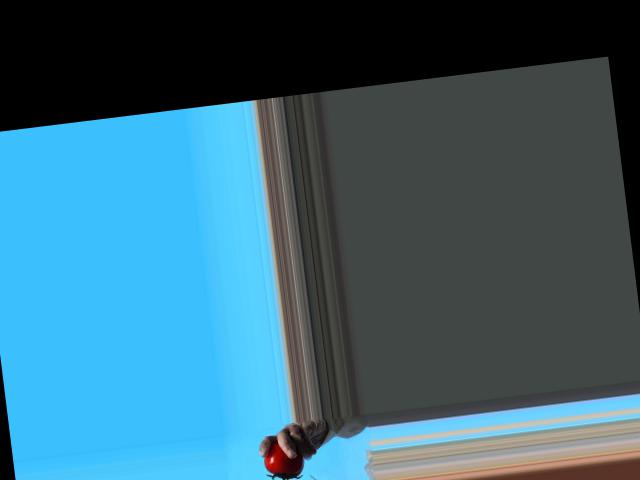tomato: (261, 438, 305, 480)
